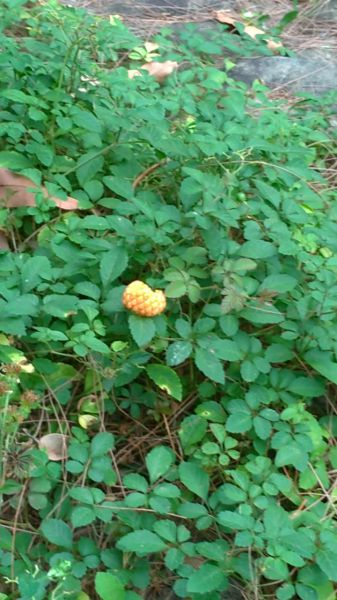eggs: (118, 279, 173, 322)
